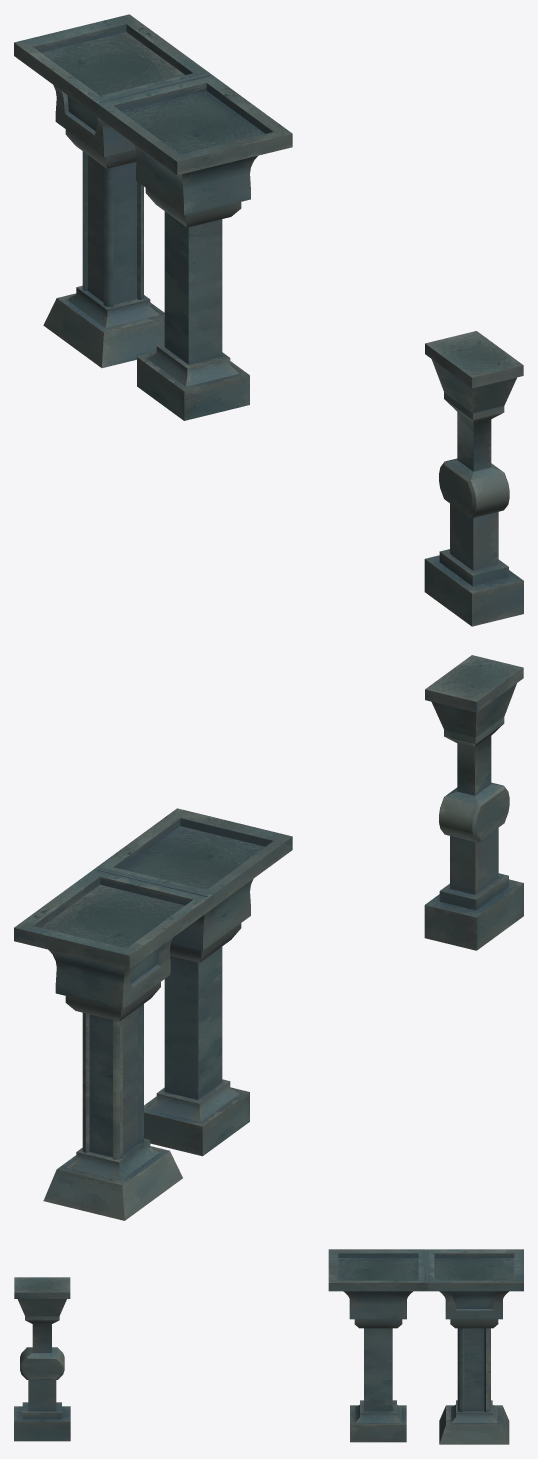
The model's file is Pillars_small.fbx.
3 renders of one model, top to bottom at view 1: azimuth 30°, elevation 25°; view 2: azimuth 150°, elevation 25°; view 3: azimuth 270°, elevation 25°, orthographic. The views are drawn at different scales.
Visible parts, largest first — view 1: Pillar_small, Pillar_small_02, Pillar_small_03; view 2: Pillar_small_02, Pillar_small, Pillar_small_03; view 3: Pillar_small_02, Pillar_small, Pillar_small_03.
Part boxes in pixels (left/top/right/bottom): Pillar_small: left=94, top=73, right=292, bottom=420; Pillar_small_02: left=14, top=14, right=211, bottom=367; Pillar_small_03: left=424, top=331, right=523, bottom=626; Pillar_small_02: left=14, top=867, right=212, bottom=1220; Pillar_small: left=94, top=808, right=292, bottom=1156; Pillar_small_03: left=424, top=655, right=523, bottom=950; Pillar_small_02: left=424, top=1249, right=523, bottom=1444; Pillar_small: left=328, top=1249, right=427, bottom=1442; Pillar_small_03: left=14, top=1277, right=70, bottom=1441.
Size of the model in its own units: 282 by 652 by 1800.
